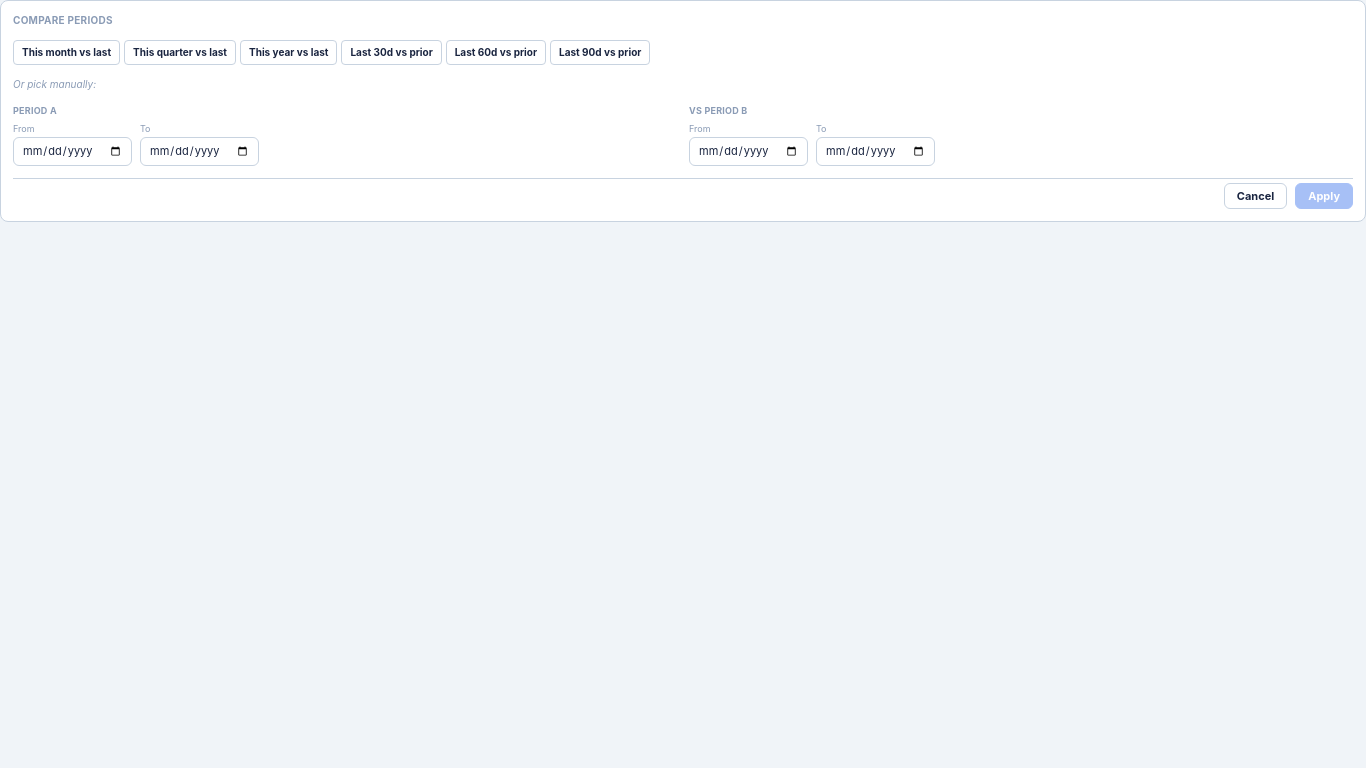
it: <ComparePanel /> — fix-137-b › Apply disabled while either period is incomplete; enabled when both filled
Expected: the button with test id "p-apply" is disabled, x1=1295 y1=182 x2=1353 y2=209
# Fill Period A.
Type "2026-04-01" into the date field with test id "p-period-a-from".
click(72, 151); type("2026-04-01")  # box x1=13 y1=137 x2=132 y2=166
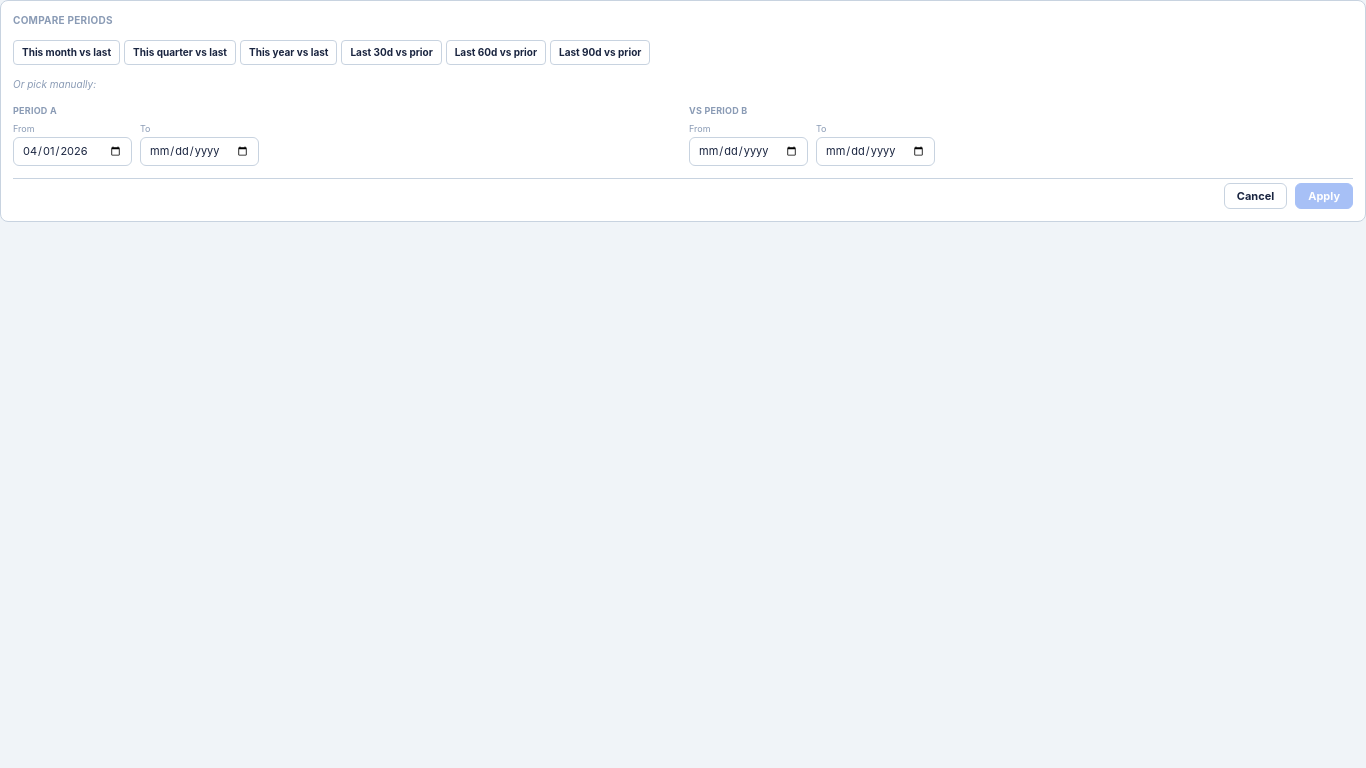
Type "2026-04-30" into the date field with test id "p-period-a-to".
click(200, 151); type("2026-04-30")  # box x1=140 y1=137 x2=259 y2=166
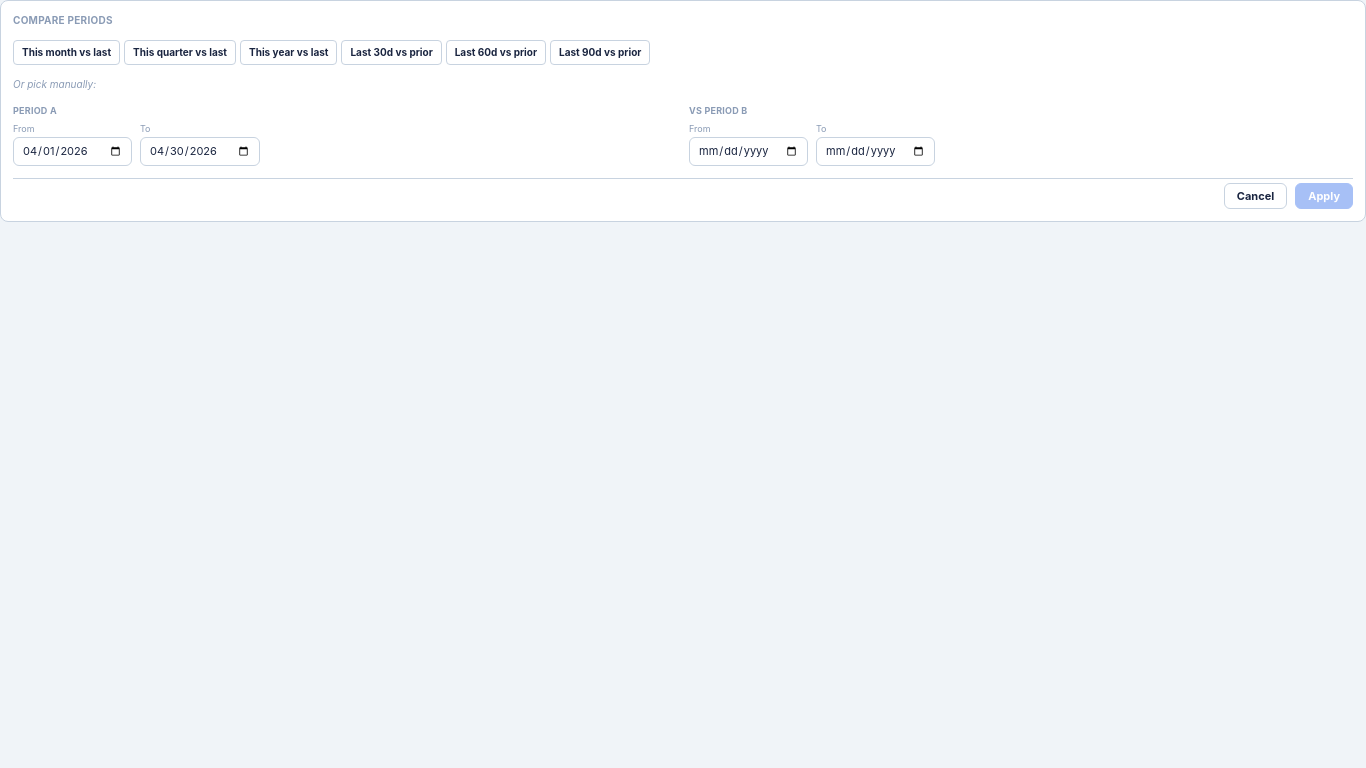
Expected: the button with test id "p-apply" is disabled, x1=1295 y1=182 x2=1353 y2=209
# Period B partially filled — still disabled.
Type "2026-03-01" into the date field with test id "p-period-b-from".
click(748, 151); type("2026-03-01")  # box x1=689 y1=137 x2=808 y2=166
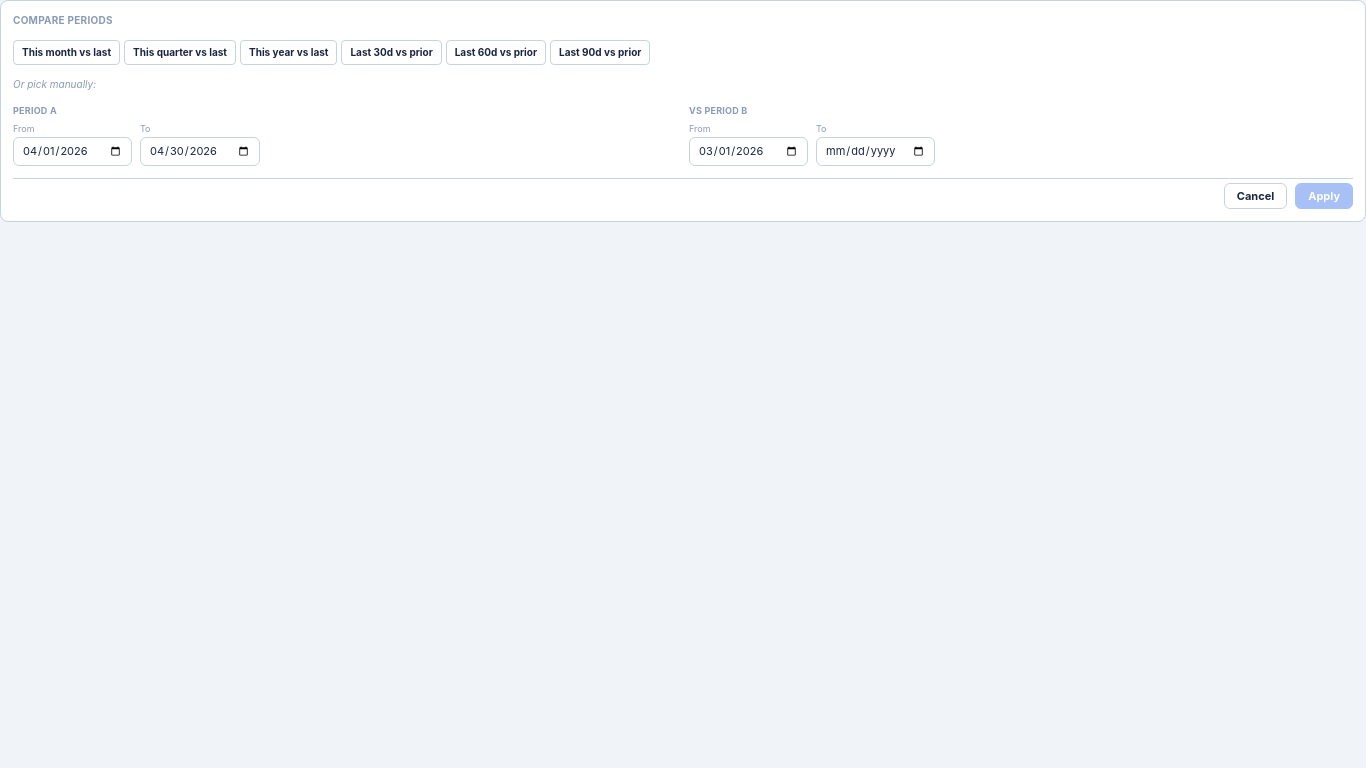
Expected: the button with test id "p-apply" is disabled, x1=1295 y1=182 x2=1353 y2=209
Type "2026-03-31" into the date field with test id "p-period-b-to".
click(876, 151); type("2026-03-31")  # box x1=816 y1=137 x2=935 y2=166
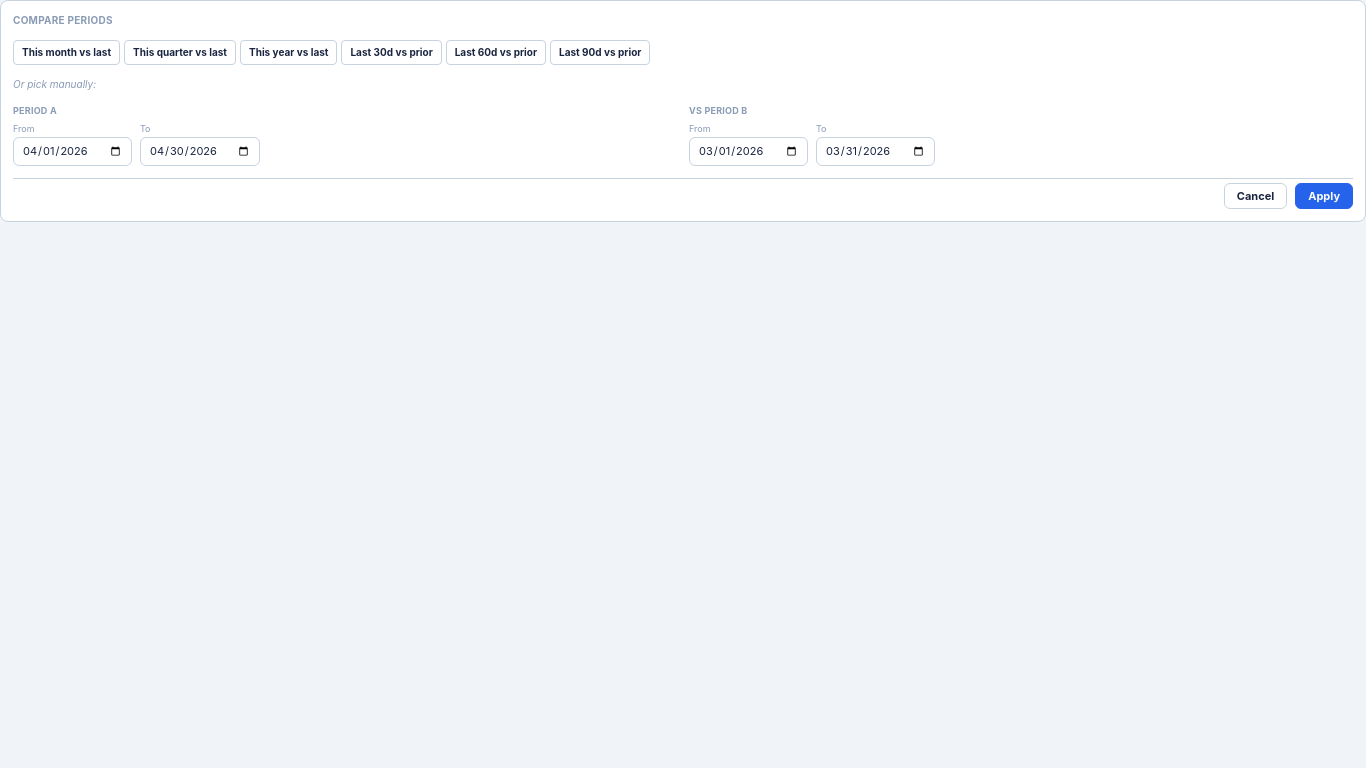
Result: the button with test id "p-apply" is enabled at x1=1295 y1=182 x2=1353 y2=209
